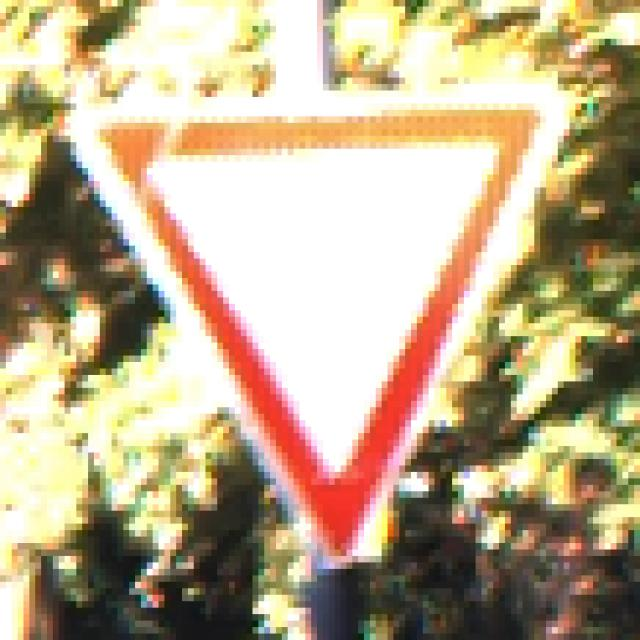Give Way: (60, 53, 588, 583)
